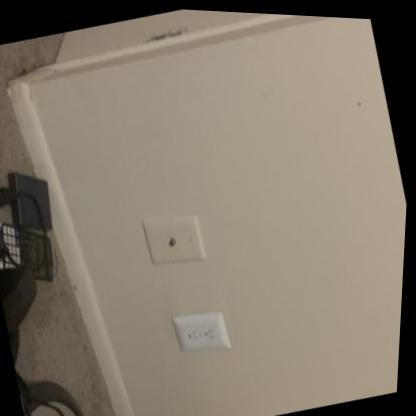OUTLET: (170, 305, 232, 360)
